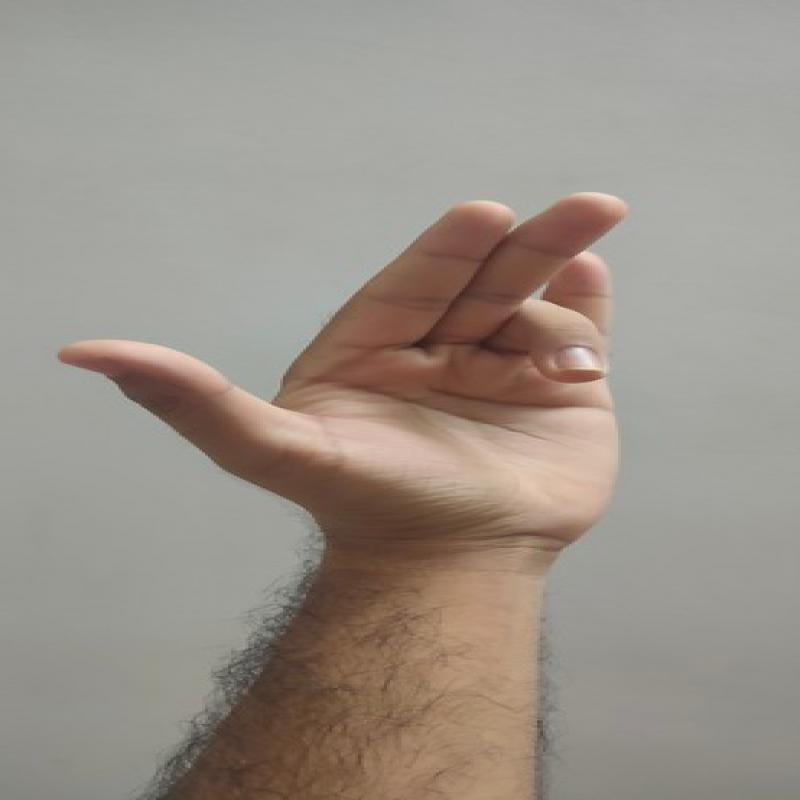Pathaaka: (47, 170, 643, 564)
